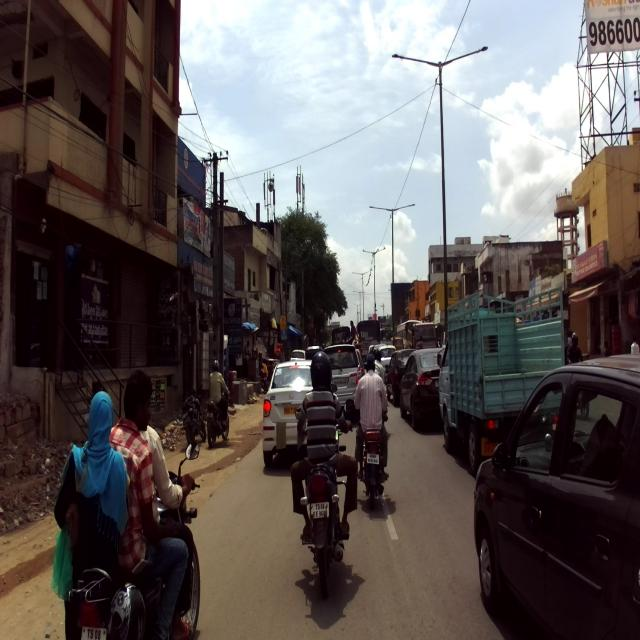Car_Maruti-Suzuki: (472, 354, 639, 637)
motorcycle_Hero: (66, 439, 201, 638), (294, 396, 355, 588)
motorcycle_TVS: (358, 393, 388, 504)
motorcycle_bajaj: (180, 380, 205, 448)
truck: (436, 282, 568, 467)
